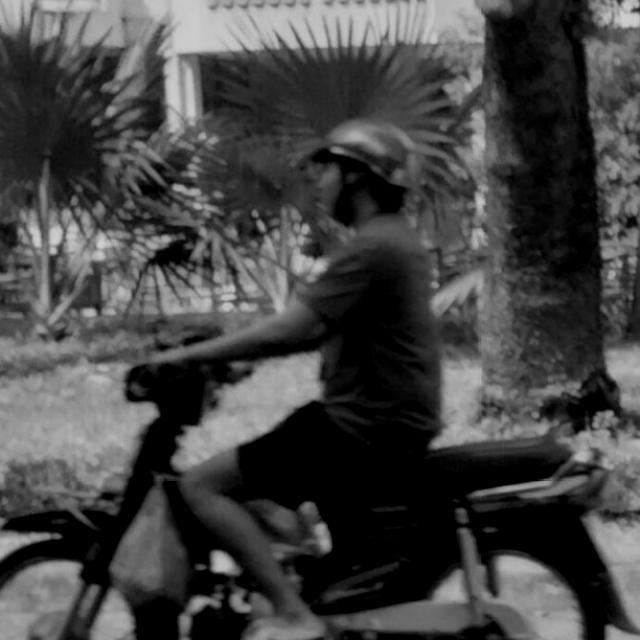Helmet: (310, 117, 416, 226)
